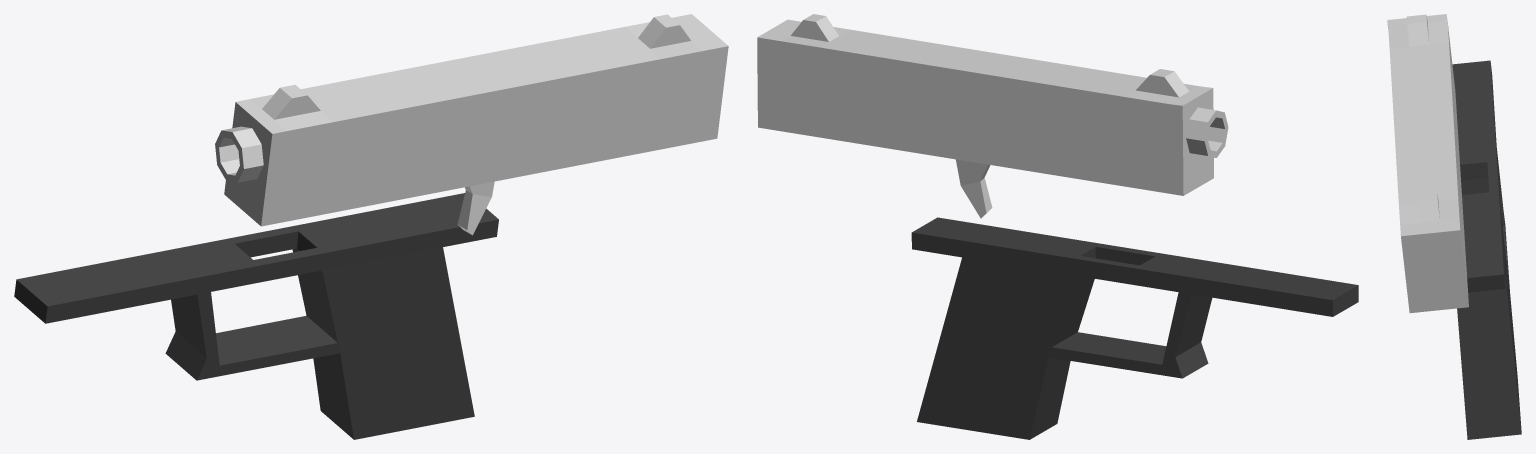
Rendered from gun.fbx.
3 views of the same model, side by side, from view 1: azimuth 30°, elevation 25°; view 2: azimuth 150°, elevation 25°; view 3: azimuth 270°, elevation 25° (orthographic). The views are drawn at different scales.
Visible parts, largest first — view 1: Cube.002, Cube, Cylinder.010, Cube.001; view 2: Cube.002, Cube, Cylinder.010, Cube.001; view 3: Cube.002, Cube.
Part boxes in pixels (x1=…): Cube.002: x1=224, y1=14, x2=728, y2=226; Cube: x1=14, y1=193, x2=498, y2=439; Cylinder.010: x1=215, y1=126, x2=263, y2=182; Cube.001: x1=457, y1=181, x2=494, y2=235; Cube.002: x1=757, y1=14, x2=1213, y2=195; Cube: x1=911, y1=217, x2=1358, y2=439; Cylinder.010: x1=1186, y1=107, x2=1228, y2=157; Cube.001: x1=955, y1=159, x2=992, y2=218; Cube.002: x1=1387, y1=14, x2=1468, y2=313; Cube: x1=1452, y1=60, x2=1521, y2=439.
Bounding box in the file's own units: 65.41 × 37.93 × 13.79.
Materials: 1 (1 with a texture image).
